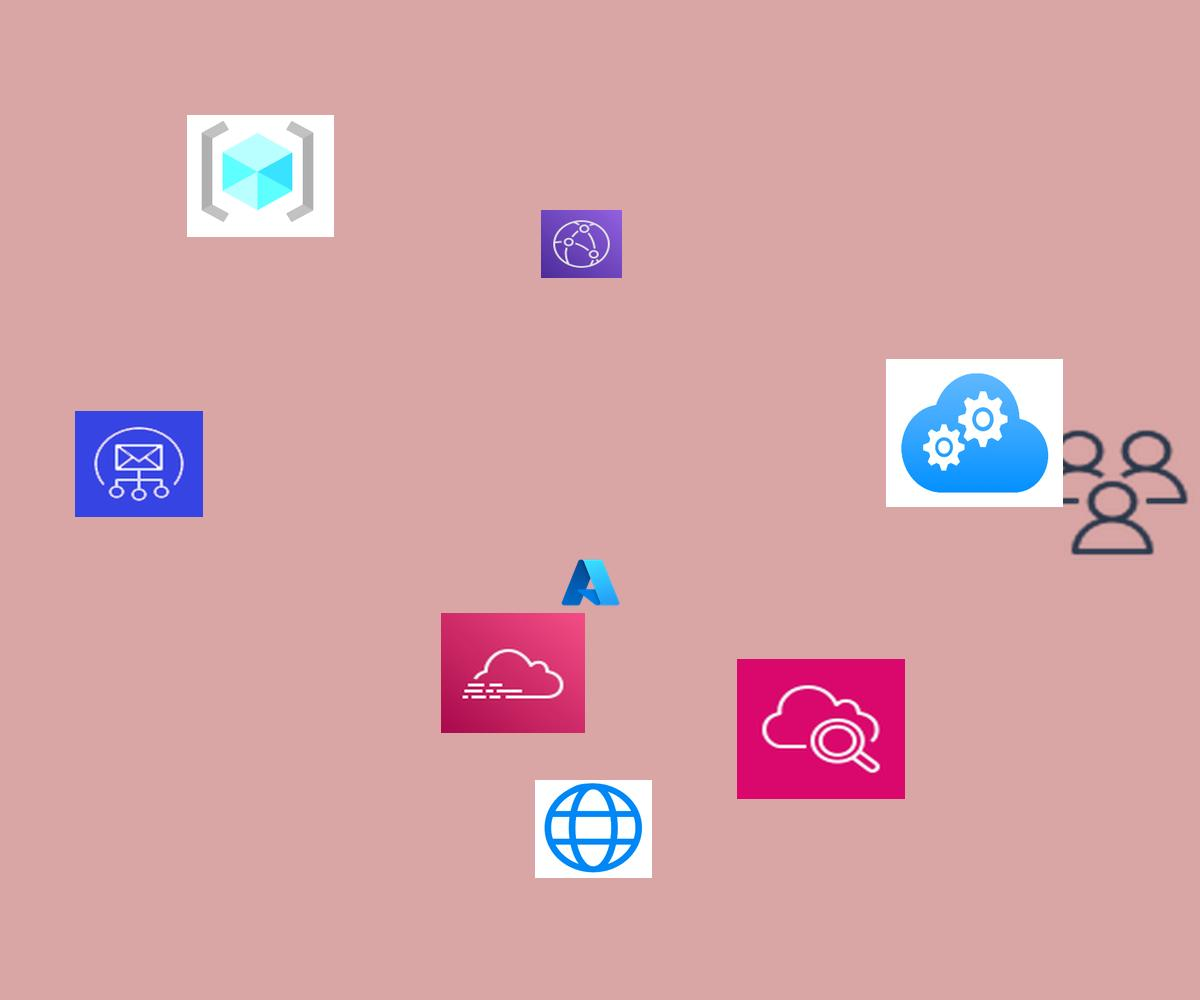AWS-CloudFront: (541, 210, 622, 278)
AWS-CloudTrail: (441, 613, 585, 733)
AWS-CloudWatch: (737, 659, 905, 799)
AWS-Res_Users: (1031, 425, 1194, 560)
AWS-Simple-Email-Service: (75, 411, 203, 517)
Azure_cloud_services: (886, 359, 1063, 507)
Azure_http: (535, 780, 652, 878)
Azure_resource_group: (187, 115, 334, 237)
Azure_services: (559, 556, 622, 609)
